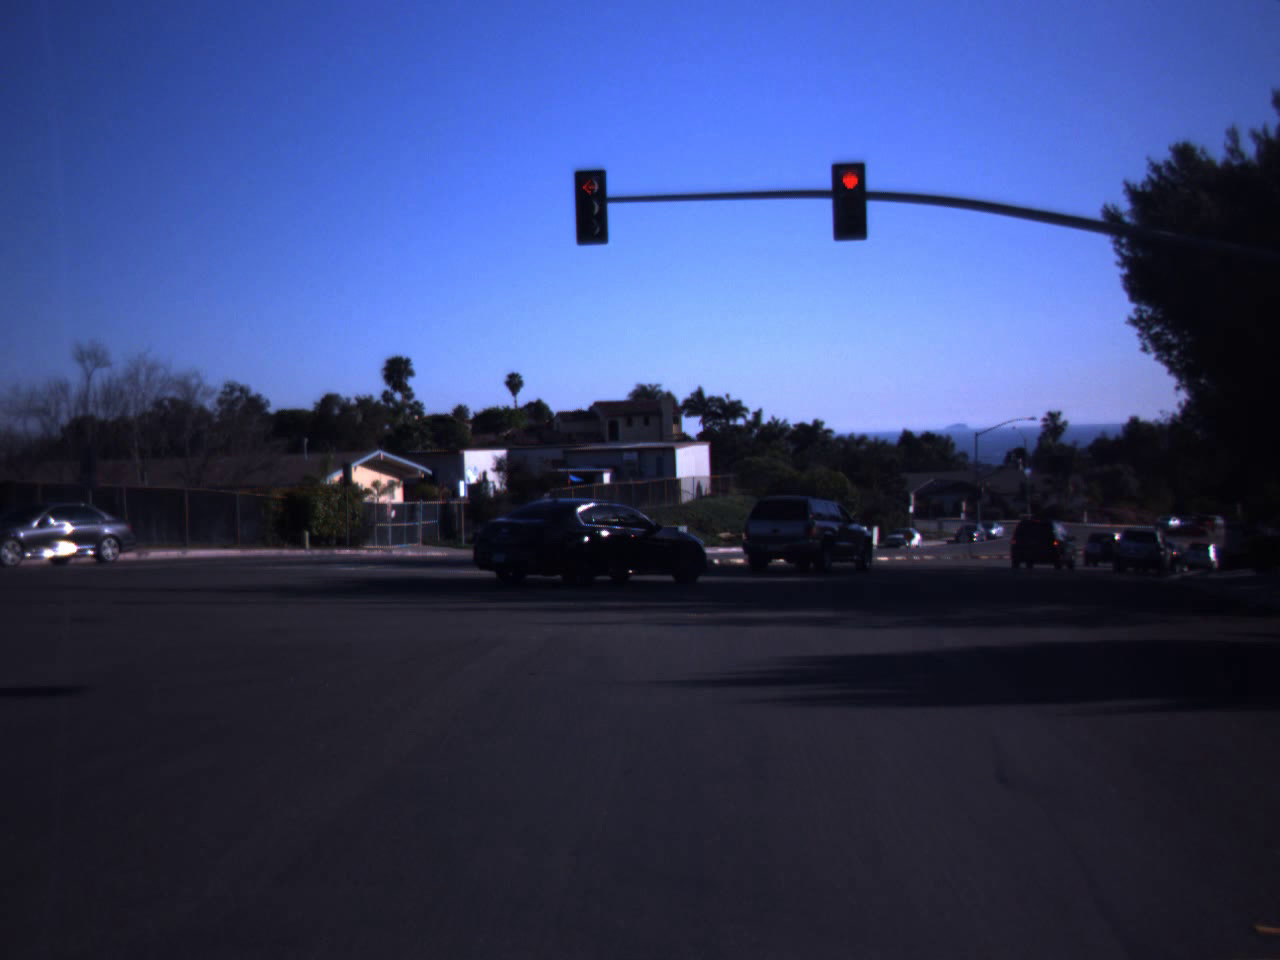car: (496, 493, 709, 587), (746, 496, 876, 570), (6, 502, 132, 565), (1011, 522, 1078, 567)
traffic light: (831, 162, 869, 243), (571, 166, 609, 246)
